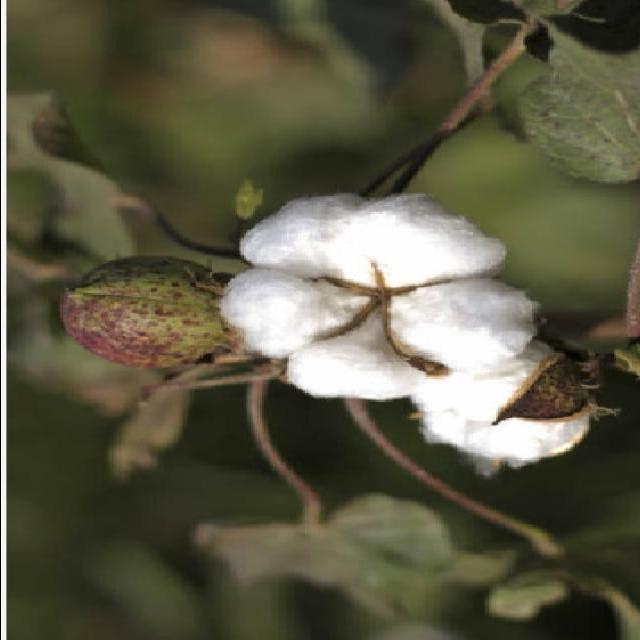Early Boll: (51, 243, 239, 381)
Matured Cotton Boll: (220, 188, 519, 407), (424, 334, 584, 467)
